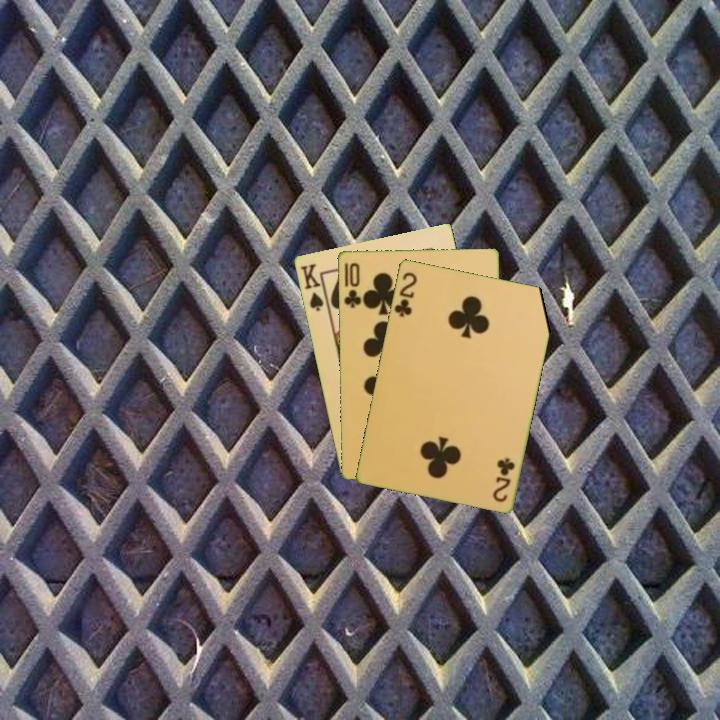10c: (340, 259, 364, 311)
2c: (391, 268, 420, 320), (489, 454, 517, 505)
Ks: (296, 260, 330, 314)
